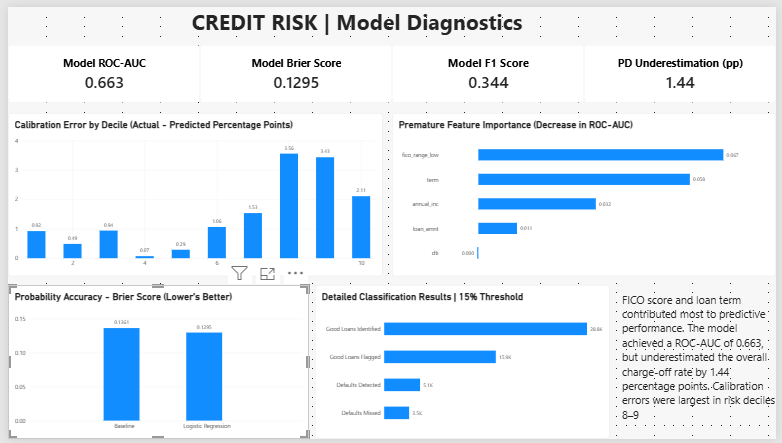

What the dashboard file says about the page in this screenshot:
{"tool":"powerbi","page":{"name":"Model Diagnostics","canvas":[1920,1080],"ordinal":1},"visuals":[{"type":"textbox","box":[272,0,1200,96],"z":0},{"type":"clusteredColumnChart","title":"Calibration Error by Decile (Actual - Predicted Percentage Points)","fields":{"Category":["calibration_by_decile.risk_decile"],"Y":["Avg(calibration_by_decile.difference_pp)"]},"box":[0,264,936,408],"z":1},{"type":"columnChart","title":"Probability Accuracy - Brier Score (Lower''s Better)","fields":{"Category":["brier_comparison.model"],"Y":["Avg(brier_comparison.brier_score)"]},"box":[0,696,752,384],"z":2},{"type":"clusteredBarChart","title":"Premature Feature Importance (Decrease in ROC-AUC)","fields":{"Category":["feature_importance.feature"],"Y":["Sum(feature_importance.importance)"]},"box":[960,264,960,408],"z":3},{"type":"clusteredBarChart","title":"Detailed Classification Results | 15% Threshold","fields":{"Category":["classification_outcomes.outcome"],"Y":["Sum(classification_outcomes.count)"]},"box":[768,696,736,384],"z":4},{"type":"cardVisual","fields":{"Data":["Scored Loans.Model ROC-AUC"]},"box":[0,96,480,144],"z":5},{"type":"cardVisual","fields":{"Data":["Scored Loans.Model Brier Score"]},"box":[480,96,480,144],"z":6},{"type":"cardVisual","fields":{"Data":["Scored Loans.PD Underestimation (pp)"]},"box":[1440,96,480,144],"z":7},{"type":"cardVisual","fields":{"Data":["Scored Loans.Model F1 Score"]},"box":[960,96,480,144],"z":8},{"type":"textbox","box":[1536,712,384,368],"z":9}]}

Visuals, with their boxes in screenshot pixels (x1, y1, x2, y2), scaled from the page's 1920x1080 canvas onto the 782x443 screenshot:
textbox: (111, 0, 600, 39)
"Calibration Error by Decile (Actual - Predicted Percentage Points)" clusteredColumnChart: (0, 108, 381, 276)
"Probability Accuracy - Brier Score (Lower''s Better)" columnChart: (0, 285, 306, 442)
"Premature Feature Importance (Decrease in ROC-AUC)" clusteredBarChart: (391, 108, 781, 276)
"Detailed Classification Results | 15% Threshold" clusteredBarChart: (313, 285, 613, 442)
cardVisual - Scored Loans.Model ROC-AUC: (0, 39, 196, 98)
cardVisual - Scored Loans.Model Brier Score: (196, 39, 391, 98)
cardVisual - Scored Loans.PD Underestimation (pp): (586, 39, 781, 98)
cardVisual - Scored Loans.Model F1 Score: (391, 39, 586, 98)
textbox: (626, 292, 781, 442)
